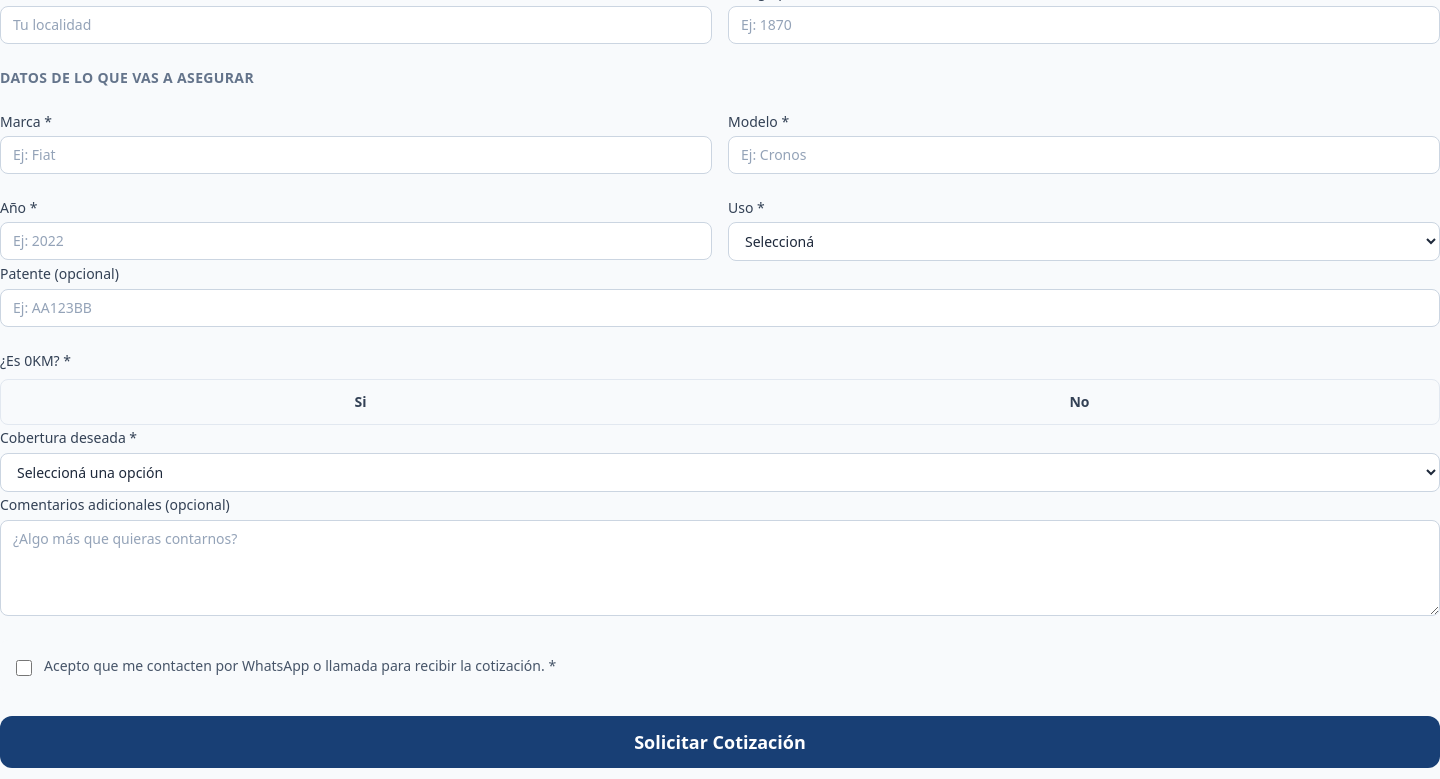
Scenario: CotizacionForm › muestra error cuando faltan datos obligatorios
(page scrolled)
Click the button "Solicitar Cotización".
click(720, 742)  # box [0,716,1439,768]
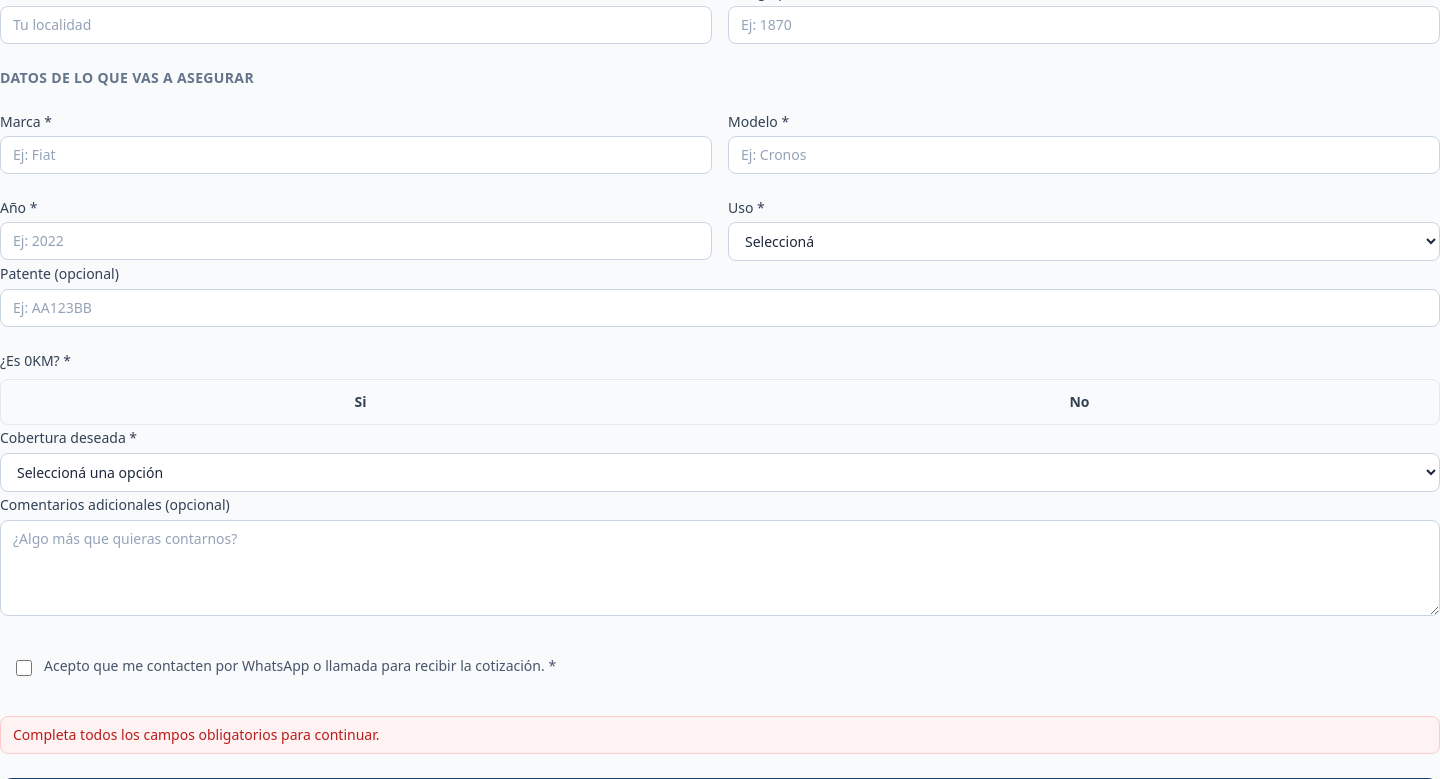
Check: the text "Completa todos los campos obligatorios para continuar." is shown, box [0,716,1439,754]
